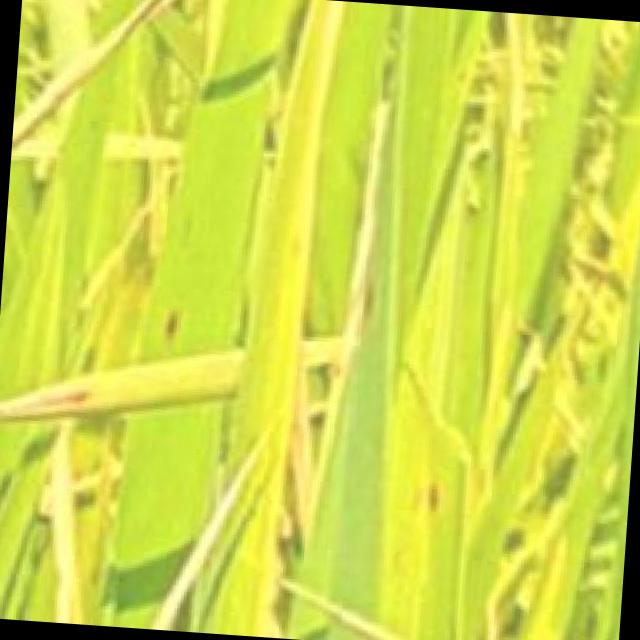Rice_Bacterial_Blight: (248, 0, 325, 569)
